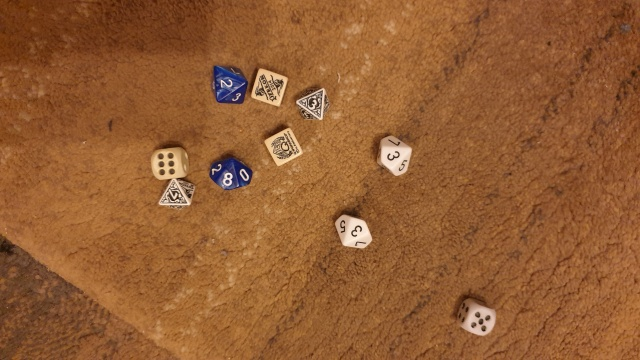d10-2: (204, 60, 247, 109)
d10-3: (372, 130, 412, 180), (332, 212, 375, 255)
d10-8: (205, 152, 253, 194)
d6-5: (452, 293, 499, 340)
d6-6: (148, 143, 189, 181)
d6p-1: (248, 65, 290, 108)
d6p-6: (263, 129, 306, 168)
d8p-3: (294, 84, 331, 123)
d8p-7: (155, 177, 197, 212)
